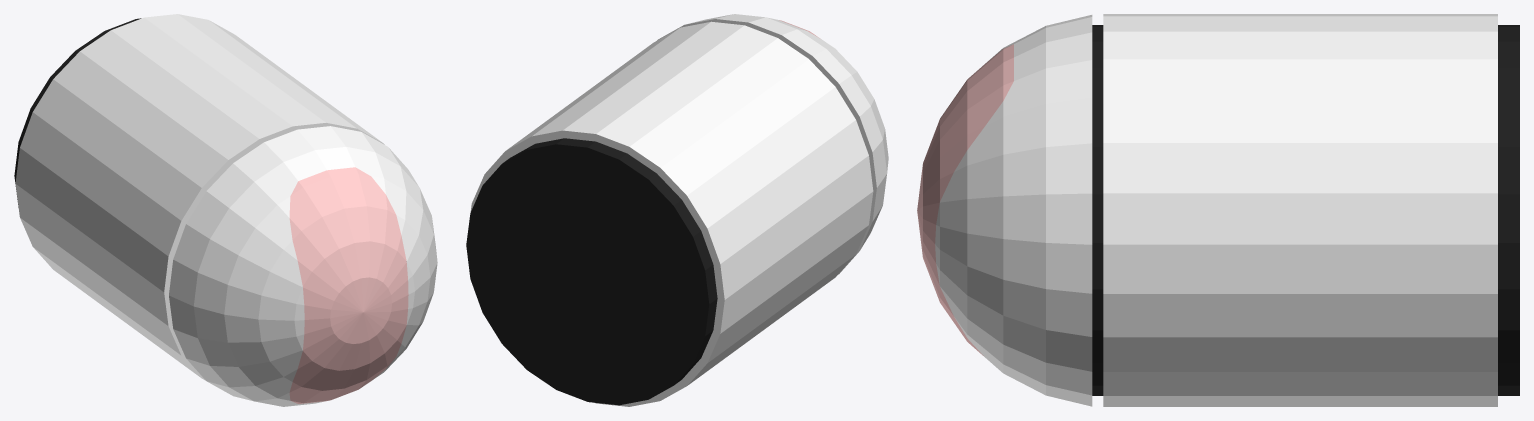
3 renders of one model, left to right at view 1: azimuth 30°, elevation 25°; view 2: azimuth 150°, elevation 25°; view 3: azimuth 270°, elevation 25°, orthographic. The views are drawn at different scales.
Parts seen in each view (by area): view 1: trash bin; view 2: trash bin; view 3: trash bin.
Part boxes in pixels (x1,y1,x2,y2): trash bin: [14, 14, 437, 406]; trash bin: [466, 14, 888, 406]; trash bin: [917, 14, 1519, 406].
Size of the model in its own units: 7.09 by 7.09 by 10.83.
